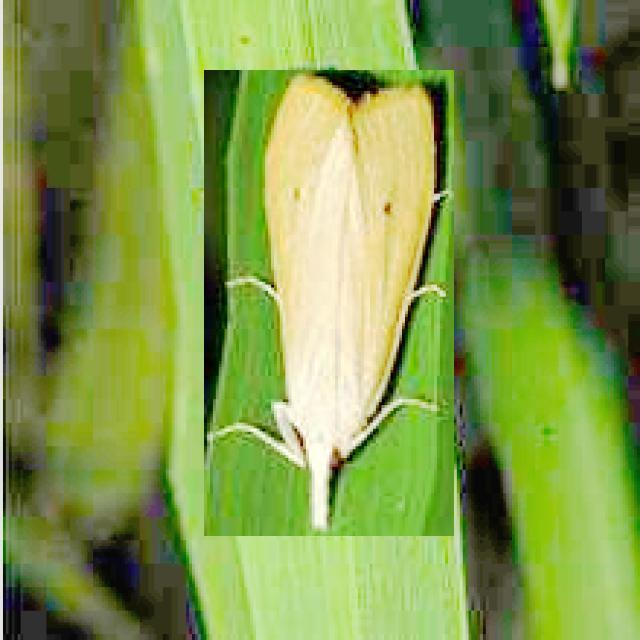stem-borer: (204, 70, 454, 536)
